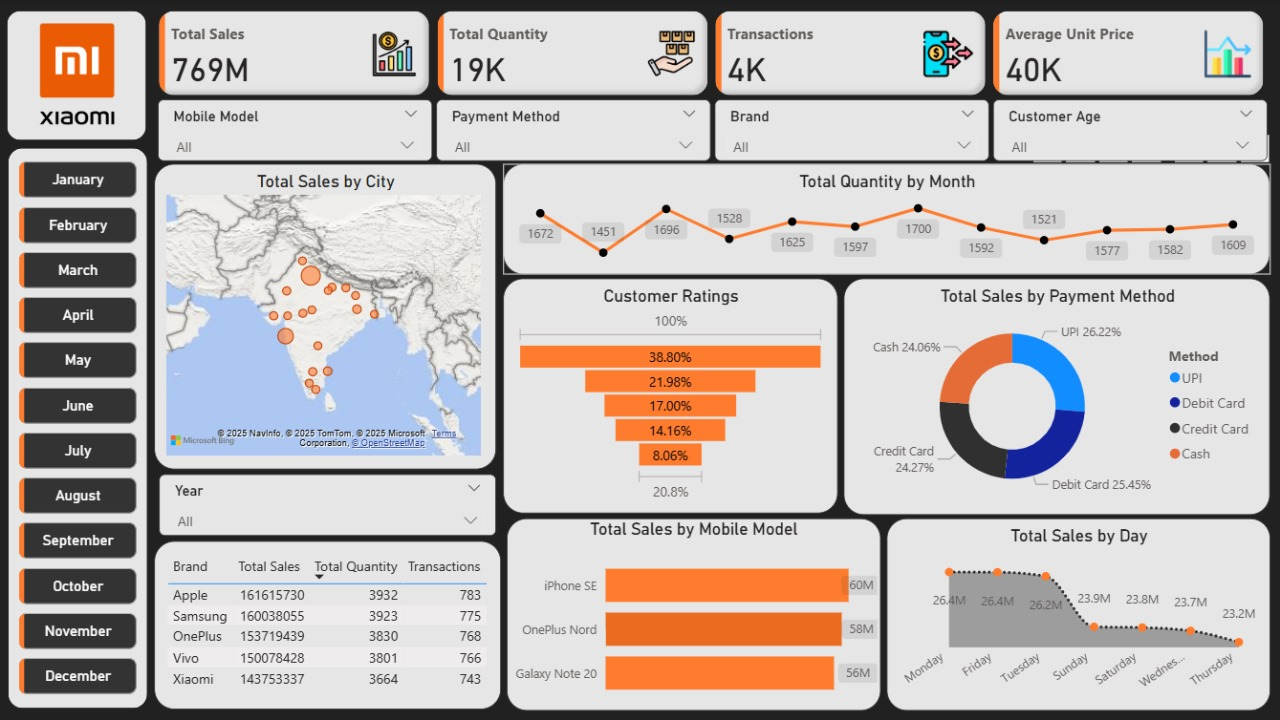

The dashboard page shown, as its layout file describes it:
{"tool":"powerbi","page":{"name":"Dashboard","canvas":[1280,720],"ordinal":0},"visuals":[{"type":"shape","box":[7.1,11.9,138.1,128.6],"z":0},{"type":"image","box":[6,11.9,141.7,126.2],"z":1000},{"type":"shape","box":[8.3,148.8,138.1,558.3],"z":2000},{"type":"advancedSlicerVisual","fields":{"Values":["Sheet1.Date.Variation.Date Hierarchy.Month"]},"box":[14.3,157.1,127.4,551.2],"z":3000},{"type":"cardVisual","fields":{"Data":["Sales Data.Total Sales","Sales Data.Total Quantity","Sales Data.Transactions","Sales Data.Average Unit Price"]},"box":[153.6,7.1,1111.9,94],"z":4000},{"type":"map","fields":{"Category":["Sales Data.City"],"Size":["Sales Data.Total Sales"]},"box":[153.6,164.3,340.5,304.8],"z":5000},{"type":"lineChart","fields":{"Y":["Sales Data.Total Quantity"],"Category":["Sales Data.Date.Variation.Date Hierarchy.Month","Sales Data.Date.Variation.Date Hierarchy.Day"]},"box":[501.2,164.3,764.3,110.7],"z":6000},{"type":"funnel","title":"Customer Ratings","fields":{"Category":["Sales Data.Customer Ratings"],"Y":["Sum(Sales Data.Customer Ratings)"]},"box":[501.2,278.6,333.3,234.5],"z":7000},{"type":"donutChart","fields":{"Category":["Sales Data.Payment Method"],"Y":["Sales Data.Total Sales"]},"box":[840.5,278.6,425,235.7],"z":8000},{"type":"clusteredBarChart","fields":{"Category":["Sales Data.Mobile Model"],"Y":["Sales Data.Total Sales"]},"box":[504.8,517.9,372.6,191.7],"z":9000},{"type":"tableEx","fields":{"Values":["Sales Data.Brand","Sales Data.Total Sales","Sales Data.Total Quantity","Sales Data.Transactions"]},"box":[153.6,540.5,345.2,167.9],"z":10000},{"type":"areaChart","fields":{"Category":["Sales Data.Day"],"Y":["Sales Data.Total Sales"]},"box":[883.3,517.9,382.1,191.7],"z":11000},{"type":"slicer","fields":{"Values":["Sales Data.Mobile Model"]},"box":[157.1,100,273.8,61.9],"z":12000},{"type":"slicer","fields":{"Values":["Sales Data.Payment Method"]},"box":[434.5,100,273.8,61.9],"z":13000},{"type":"slicer","fields":{"Values":["Sales Data.Brand"]},"box":[711.9,100,273.8,61.9],"z":14000},{"type":"slicer","fields":{"Values":["Sales Data.Customer Age"]},"box":[989.3,100,273.8,61.9],"z":15000},{"type":"slicer","fields":{"Values":["Sales Data.Date.Variation.Date Hierarchy.Year"]},"box":[158.3,473.8,335.7,61.9],"z":16000}]}

Visuals, with their boxes in screenshot pixels (x1, y1, x2, y2), scaled from the page's 1280x720 canvas onto the 1280x720 screenshot:
shape: {"x1": 7, "y1": 12, "x2": 145, "y2": 140}
image: {"x1": 6, "y1": 12, "x2": 148, "y2": 138}
shape: {"x1": 8, "y1": 149, "x2": 146, "y2": 707}
advancedSlicerVisual - Sheet1.Date.Variation.Date Hierarchy.Month: {"x1": 14, "y1": 157, "x2": 142, "y2": 708}
cardVisual - Sales Data.Total Sales x Sales Data.Total Quantity: {"x1": 154, "y1": 7, "x2": 1266, "y2": 101}
map - Sales Data.City x Sales Data.Total Sales: {"x1": 154, "y1": 164, "x2": 494, "y2": 469}
lineChart - Sales Data.Total Quantity x Sales Data.Date.Variation.Date Hierarchy.Month: {"x1": 501, "y1": 164, "x2": 1266, "y2": 275}
"Customer Ratings" funnel: {"x1": 501, "y1": 279, "x2": 834, "y2": 513}
donutChart - Sales Data.Payment Method x Sales Data.Total Sales: {"x1": 840, "y1": 279, "x2": 1266, "y2": 514}
clusteredBarChart - Sales Data.Mobile Model x Sales Data.Total Sales: {"x1": 505, "y1": 518, "x2": 877, "y2": 710}
tableEx - Sales Data.Brand x Sales Data.Total Sales: {"x1": 154, "y1": 540, "x2": 499, "y2": 708}
areaChart - Sales Data.Day x Sales Data.Total Sales: {"x1": 883, "y1": 518, "x2": 1265, "y2": 710}
slicer - Sales Data.Mobile Model: {"x1": 157, "y1": 100, "x2": 431, "y2": 162}
slicer - Sales Data.Payment Method: {"x1": 434, "y1": 100, "x2": 708, "y2": 162}
slicer - Sales Data.Brand: {"x1": 712, "y1": 100, "x2": 986, "y2": 162}
slicer - Sales Data.Customer Age: {"x1": 989, "y1": 100, "x2": 1263, "y2": 162}
slicer - Sales Data.Date.Variation.Date Hierarchy.Year: {"x1": 158, "y1": 474, "x2": 494, "y2": 536}
